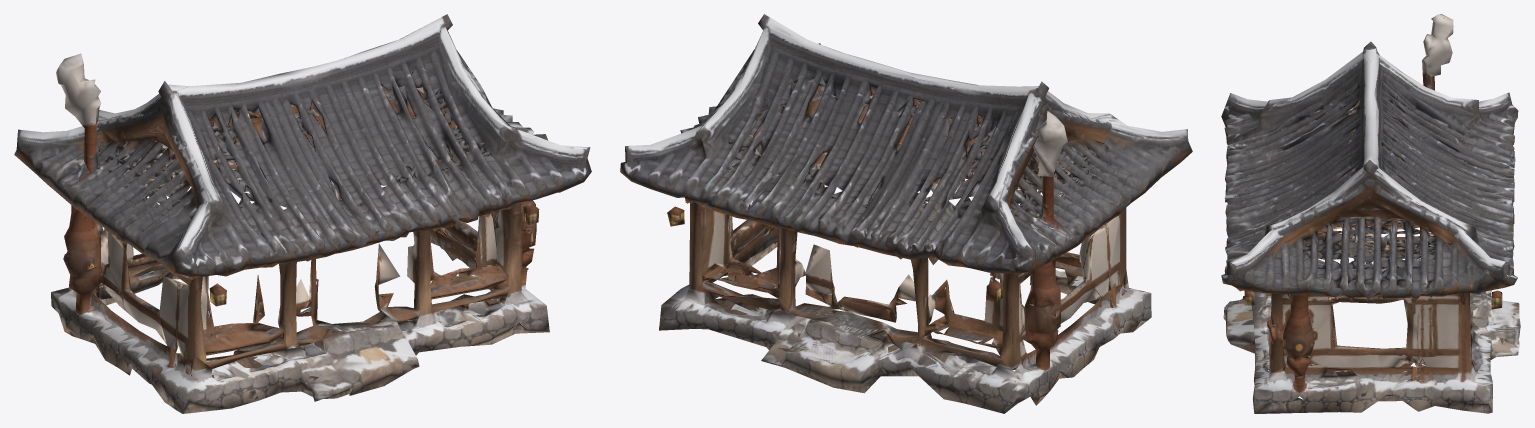
Rendered from PR_Giwajip.fbx.
3 views of the same model, side by side, from view 1: azimuth 30°, elevation 25°; view 2: azimuth 150°, elevation 25°; view 3: azimuth 270°, elevation 25° (orthographic). The views are drawn at different scales.
Visible parts, largest first — view 1: texture_mapping; view 2: texture_mapping; view 3: texture_mapping.
Boxes of the visible parts, x1,y1,x2,y2 form: texture_mapping: (14,14,591,413); texture_mapping: (620,14,1192,413); texture_mapping: (1221,14,1520,413).
Bounding box in the file's own units: 0.9933 × 0.7228 × 0.6625.
Materials: 1 (1 with a texture image).
